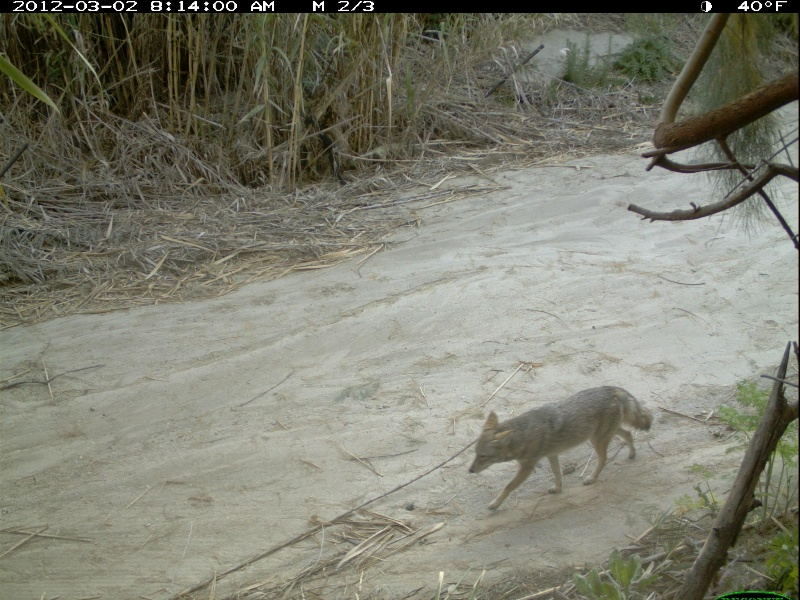coyote: (468, 383, 653, 513)
